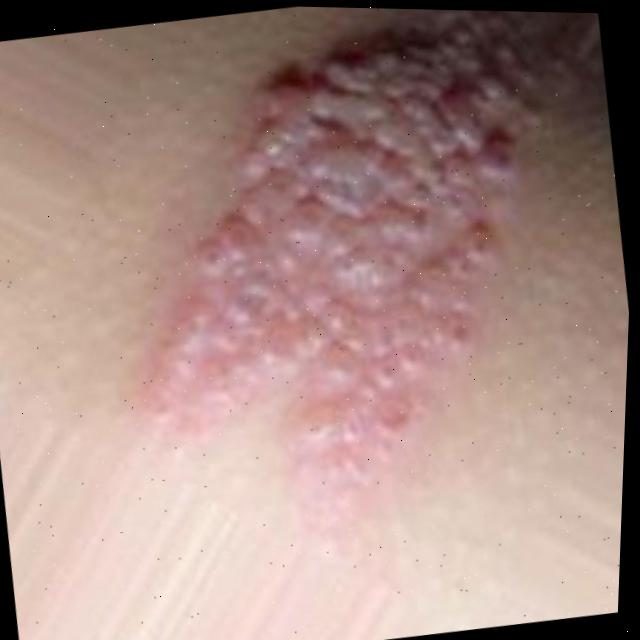Shingles: (91, 2, 588, 493)
